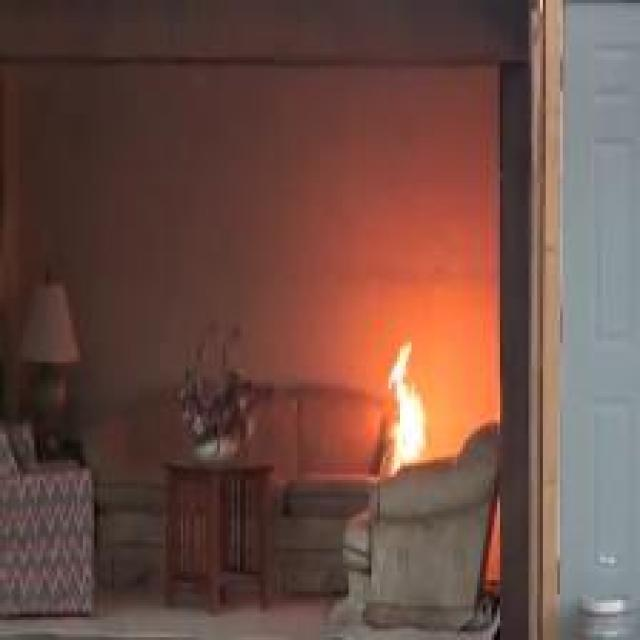Fire: (376, 333, 429, 480)
